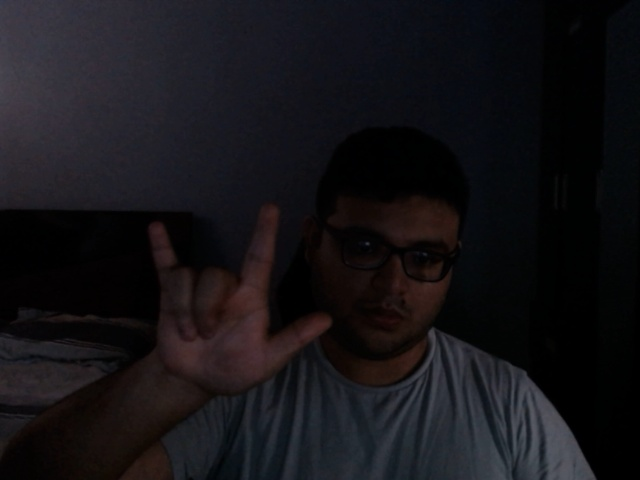I love you: (142, 200, 332, 400)
